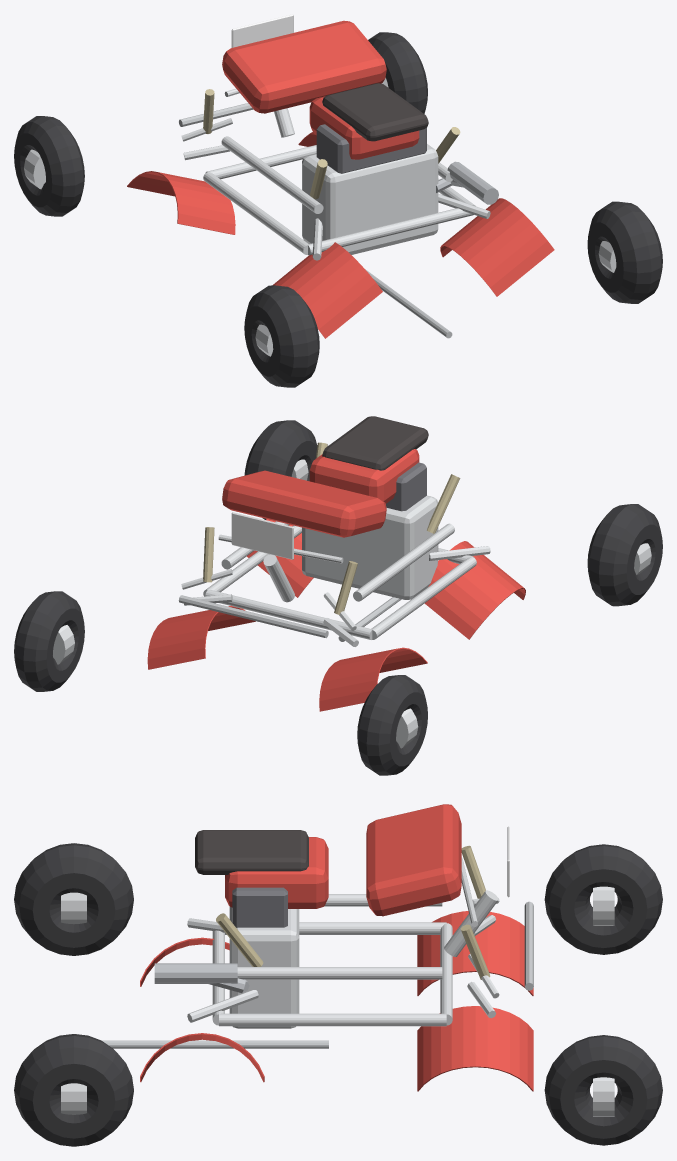
File: atv450_lod1.glb
3 renders of one model, top to bottom at view 1: azimuth 30°, elevation 25°; view 2: azimuth 150°, elevation 25°; view 3: azimuth 270°, elevation 25°, orthographic. The views are drawn at different scales.
Parts seen in each view (by area): view 1: b_hood, b_engine, b_wheel_rl_tire, b_wheel_rr_tire, b_rfender_1, b_rfender_-1, b_wheel_fl_tire, b_seat, b_ffender_-1, b_wheel_fr_tire, b_engine_head, b_tank (+8 smaller); view 2: b_engine, b_hood, b_wheel_rl_tire, b_wheel_fl_tire, b_wheel_fr_tire, b_rfender_-1, b_seat, b_ffender_-1, b_ffender_1, b_wheel_rr_tire, b_tank, b_plate (+14 smaller); view 3: b_wheel_rr_tire, b_wheel_rl_tire, b_wheel_fr_tire, b_wheel_fl_tire, b_hood, b_ffender_1, b_seat, b_engine, b_ffender_-1, b_tank, b_rail_1, b_rail2_1 (+19 smaller).
Part boxes in pixels (box(x1,y1,x2,y2)): b_hood: box(222, 20, 386, 113); b_engine: box(302, 144, 438, 254); b_wheel_rl_tire: box(244, 285, 319, 387); b_wheel_rr_tire: box(587, 201, 662, 303); b_rfender_1: box(440, 198, 554, 296); b_rfender_-1: box(273, 242, 382, 338); b_wheel_fl_tire: box(14, 116, 84, 216); b_seat: box(322, 83, 428, 141); b_ffender_-1: box(127, 171, 235, 234); b_wheel_fr_tire: box(368, 32, 427, 113); b_engine_head: box(316, 124, 426, 173); b_tank: box(309, 96, 419, 159); b_engine: box(302, 495, 438, 599); b_hood: box(222, 470, 386, 537); b_wheel_rl_tire: box(587, 504, 662, 606); b_wheel_fl_tire: box(357, 675, 427, 775); b_wheel_fr_tire: box(14, 591, 84, 691); b_rfender_-1: box(424, 541, 525, 639); b_seat: box(322, 416, 428, 470); b_ffender_-1: box(319, 647, 427, 711); b_ffender_1: box(147, 605, 255, 669); b_wheel_rr_tire: box(244, 420, 317, 519); b_tank: box(309, 449, 419, 503); b_plate: box(231, 512, 293, 559); b_wheel_rr_tire: box(14, 1034, 133, 1146); b_wheel_rl_tire: box(14, 843, 133, 955); b_wheel_fr_tire: box(544, 1035, 662, 1145); b_wheel_fl_tire: box(544, 844, 662, 954); b_hood: box(366, 804, 461, 916); b_ffender_1: box(417, 1006, 533, 1091); b_seat: box(195, 830, 308, 874); b_engine: box(229, 906, 299, 1028); b_ffender_-1: box(417, 911, 533, 995); b_tank: box(225, 837, 328, 908); b_rail_1: box(219, 1013, 446, 1026); b_rail2_1: box(237, 967, 442, 979).
Bounding box in the file's own units: 2.45 × 1.14 × 3.14.
